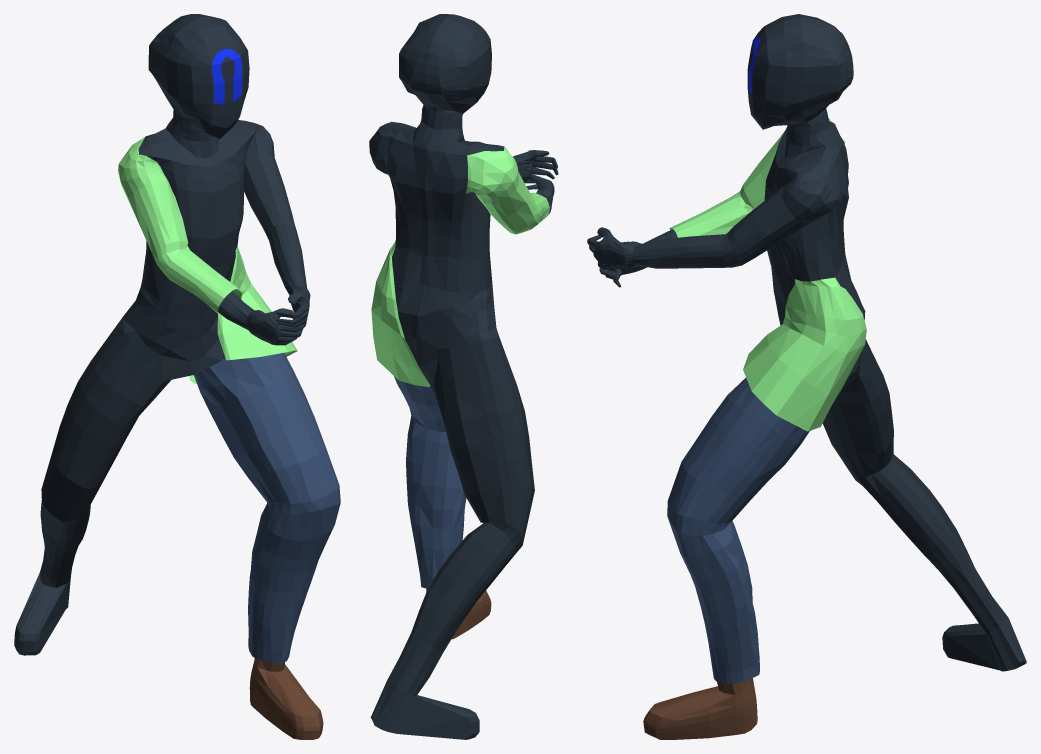
The model's file is Mar_WB_000004.obj.
The picture shows the model from 3 angles, left to right: view 1: azimuth 30°, elevation 25°; view 2: azimuth 150°, elevation 25°; view 3: azimuth 270°, elevation 25°; orthographic projection. The views are drawn at different scales.
Parts seen in each view (by area): view 1: Cube.000_Cube.001; view 2: Cube.000_Cube.001; view 3: Cube.000_Cube.001.
Boxes of the visible parts, x1=… form: Cube.000_Cube.001: x1=14, y1=14, x2=340, y2=739; Cube.000_Cube.001: x1=369, y1=14, x2=558, y2=739; Cube.000_Cube.001: x1=587, y1=14, x2=1026, y2=739.
Bounding box in the file's own units: 1.16 × 3.69 × 2.11.
